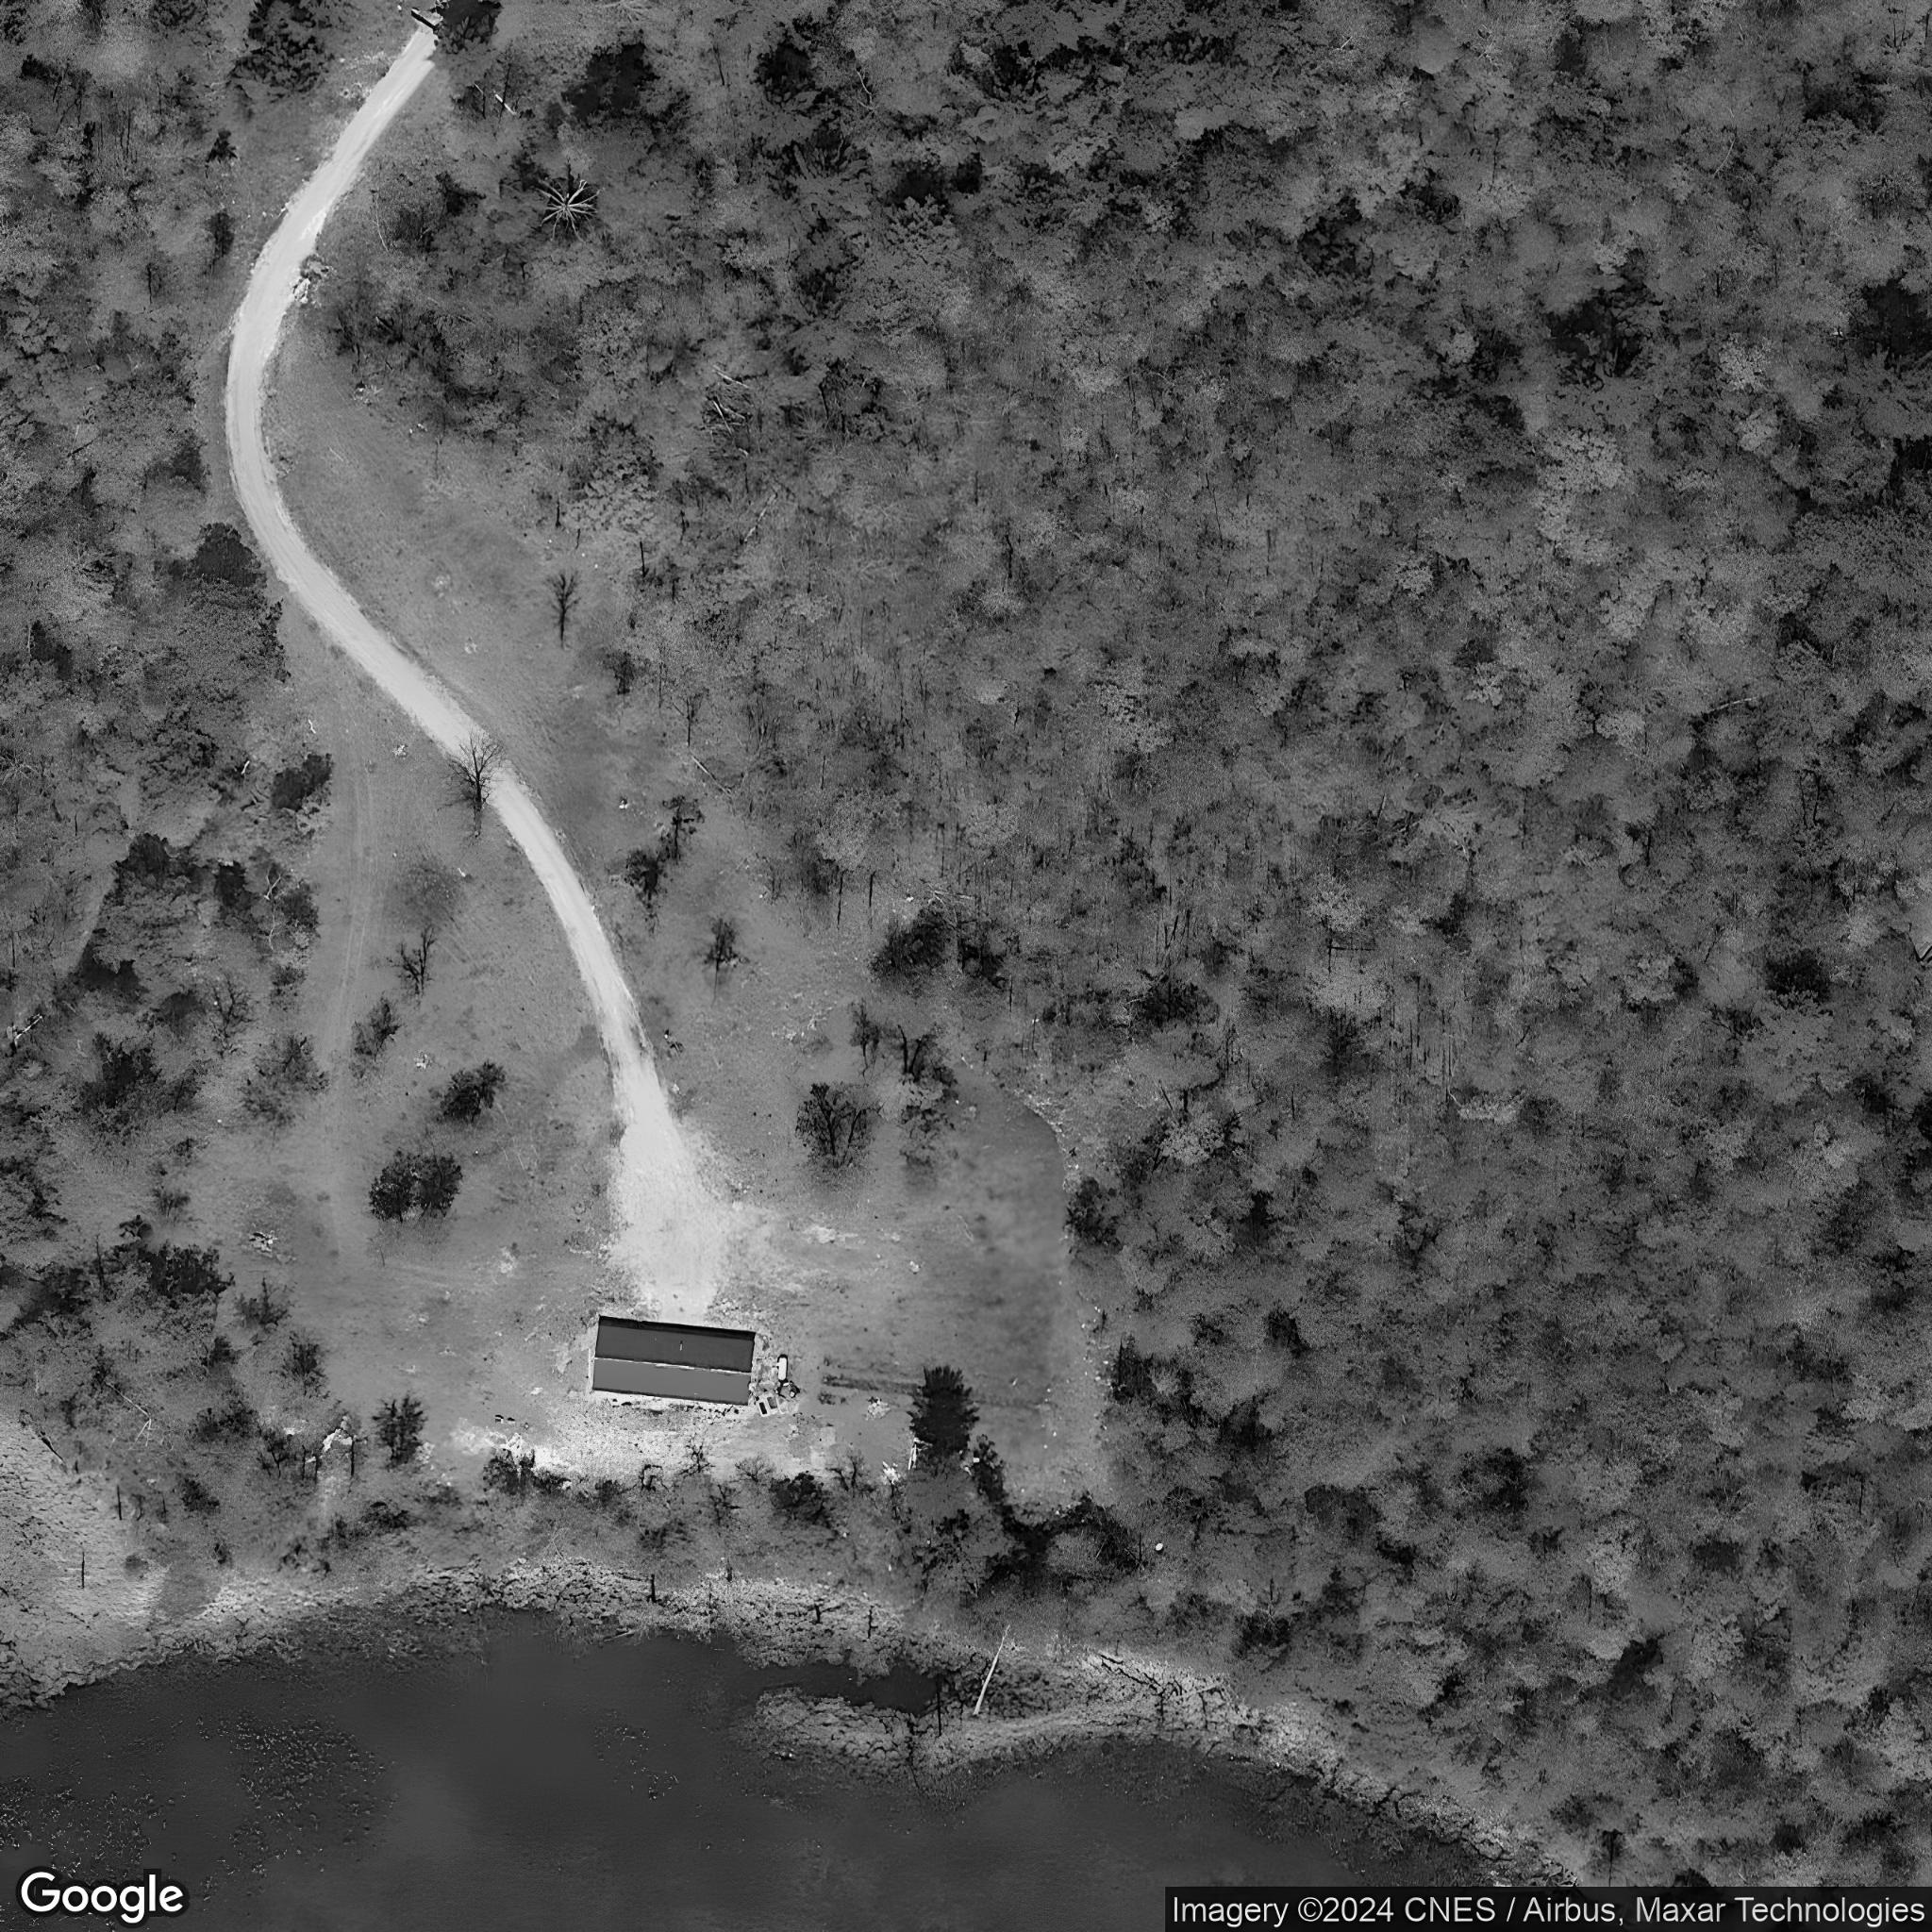House: (589, 1323, 759, 1408)
Propane: (775, 1353, 791, 1385)
